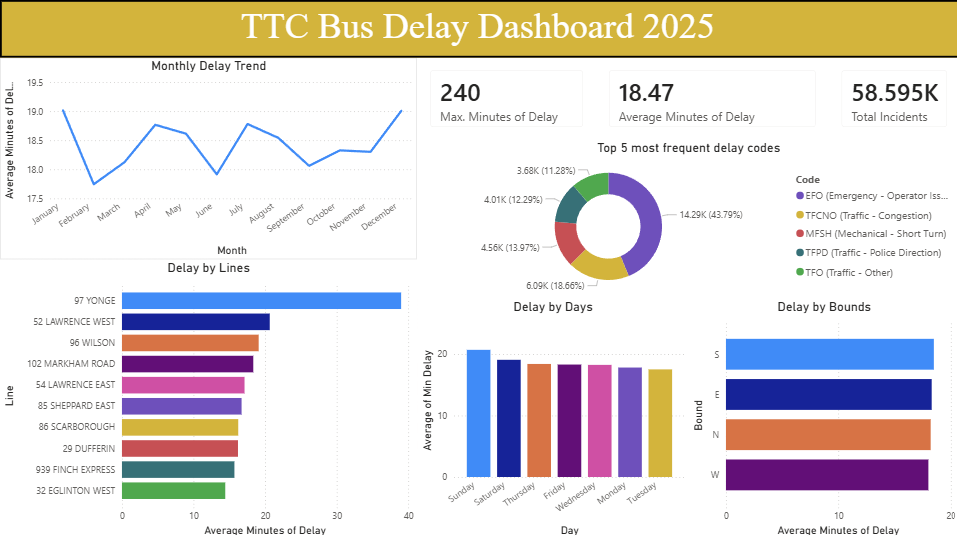

Layout of this report page (visuals, bound fields, positions):
{"tool":"powerbi","page":{"name":"Page 1","canvas":[1280,720],"ordinal":0},"visuals":[{"type":"cardVisual","fields":{"Data":["CountNonNull(TTC Bus Delay Data since 2025.Min Delay)"]},"box":[1105,76.7,175,110],"z":0},{"type":"cardVisual","fields":{"Data":["Max(TTC Bus Delay Data since 2025.Min Delay)"]},"box":[556.7,76.7,238.3,110],"z":1000},{"type":"cardVisual","fields":{"Data":["Avg(TTC Bus Delay Data since 2025.Min Delay)"]},"box":[795,76.7,310,110],"z":2000},{"type":"barChart","title":"Delay by Lines","fields":{"Category":["TTC Bus Delay Data since 2025.Line"],"Y":["Avg(TTC Bus Delay Data since 2025.Min Delay)"],"Series":["TTC Bus Delay Data since 2025.Line"]},"box":[0,346.7,556.7,373.3],"z":3000},{"type":"columnChart","title":"Delay by Days","fields":{"Category":["TTC Bus Delay Data since 2025.Day"],"Y":["Avg(TTC Bus Delay Data since 2025.Min Delay)"],"Series":["TTC Bus Delay Data since 2025.Day"]},"box":[556.7,398.3,361.7,321.7],"z":4000},{"type":"donutChart","title":"Top 5 most frequent delay codes","fields":{"Y":["CountNonNull(TTC Bus Delay Data since 2025.Min Delay)"],"Category":["TTC Bus Delay Data since 2025.Code"]},"box":[556.7,186.7,723.3,211.7],"z":5000},{"type":"lineChart","title":"Monthly Delay Trend","fields":{"Category":["TTC Bus Delay Data since 2025.Date.Variation.Date Hierarchy.Month"],"Y":["Avg(TTC Bus Delay Data since 2025.Min Delay)"]},"box":[0,76.7,556.7,270],"z":6000},{"type":"barChart","title":"Delay by Bounds","fields":{"Category":["TTC Bus Delay Data since 2025.Bound"],"Y":["Avg(TTC Bus Delay Data since 2025.Min Delay)"],"Series":["TTC Bus Delay Data since 2025.Bound"]},"box":[918.3,398.3,361.7,321.7],"z":7000},{"type":"textbox","box":[0,0,1280,76.7],"z":8000}]}

Visuals, with their boxes in screenshot pixels (x1, y1, x2, y2), scaled from the page's 1280x720 canvas onto the 957x537 screenshot:
cardVisual - CountNonNull(TTC Bus Delay Data since 2025.Min Delay): {"left": 826, "top": 57, "right": 956, "bottom": 139}
cardVisual - Max(TTC Bus Delay Data since 2025.Min Delay): {"left": 416, "top": 57, "right": 594, "bottom": 139}
cardVisual - Avg(TTC Bus Delay Data since 2025.Min Delay): {"left": 594, "top": 57, "right": 826, "bottom": 139}
"Delay by Lines" barChart: {"left": 0, "top": 259, "right": 416, "bottom": 536}
"Delay by Days" columnChart: {"left": 416, "top": 297, "right": 687, "bottom": 536}
"Top 5 most frequent delay codes" donutChart: {"left": 416, "top": 139, "right": 956, "bottom": 297}
"Monthly Delay Trend" lineChart: {"left": 0, "top": 57, "right": 416, "bottom": 259}
"Delay by Bounds" barChart: {"left": 687, "top": 297, "right": 956, "bottom": 536}
textbox: {"left": 0, "top": 0, "right": 956, "bottom": 57}
